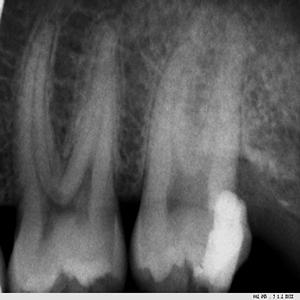tooth: (7, 21, 128, 294), (133, 26, 252, 288)
